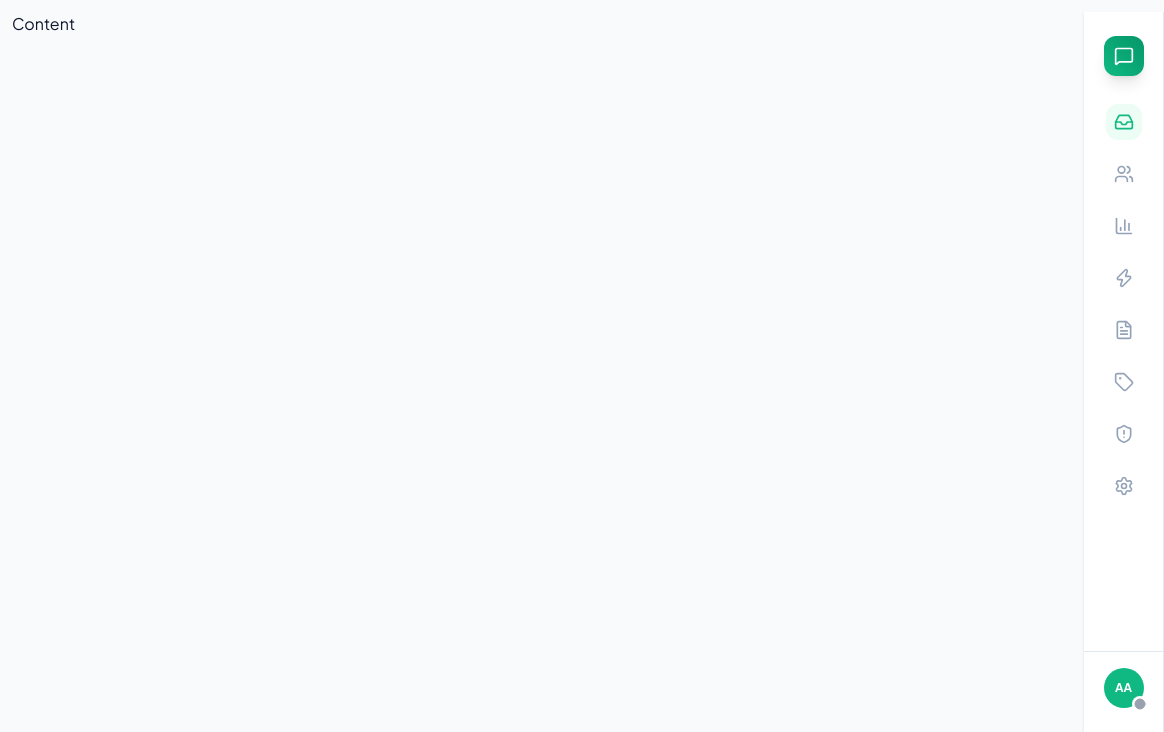
it: AppShell › closes the status menu when clicking outside the nav
The width and height of the screenshot is (1164, 732).
Expected: the text "Content" is shown, [12,13,75,34]
Step 1. Click the button titled "Ada Admin (ADMIN) - OFFLINE" → (1124, 688), box [1104,668,1144,708]
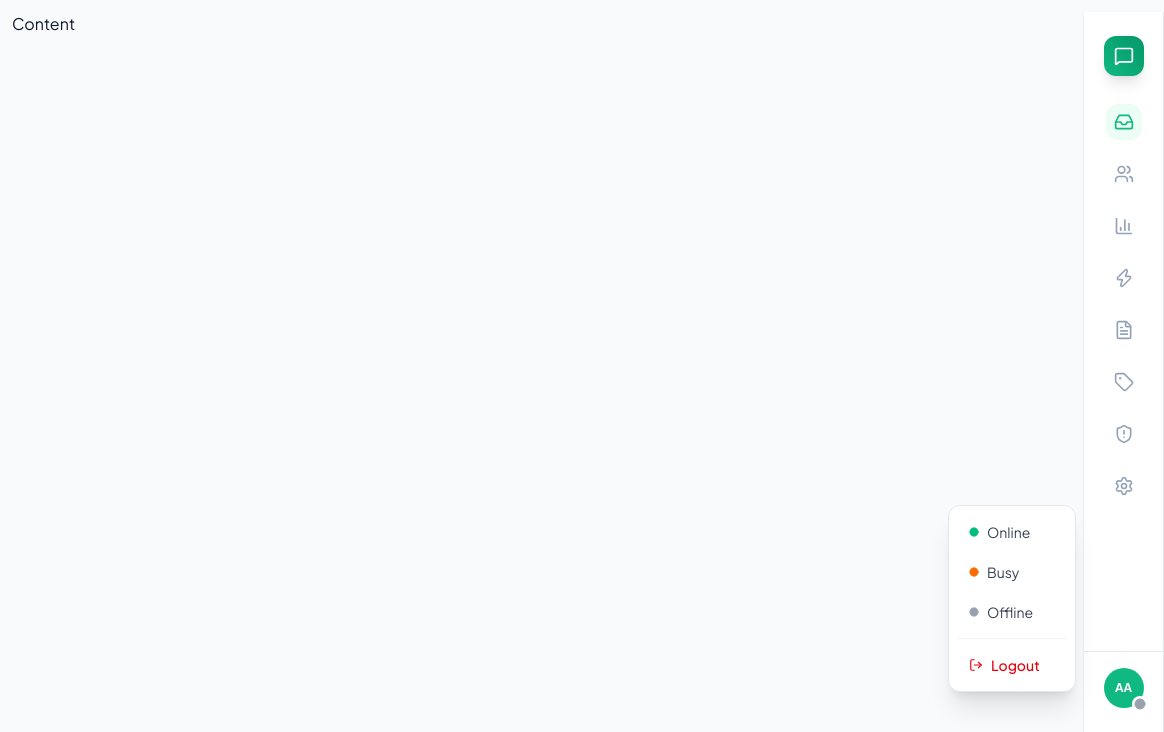
Now the button "Online" is shown, box [957,514,1067,550]
Step 2. Press the mouse on the text "Content" → (44, 24), box [12,13,75,34]
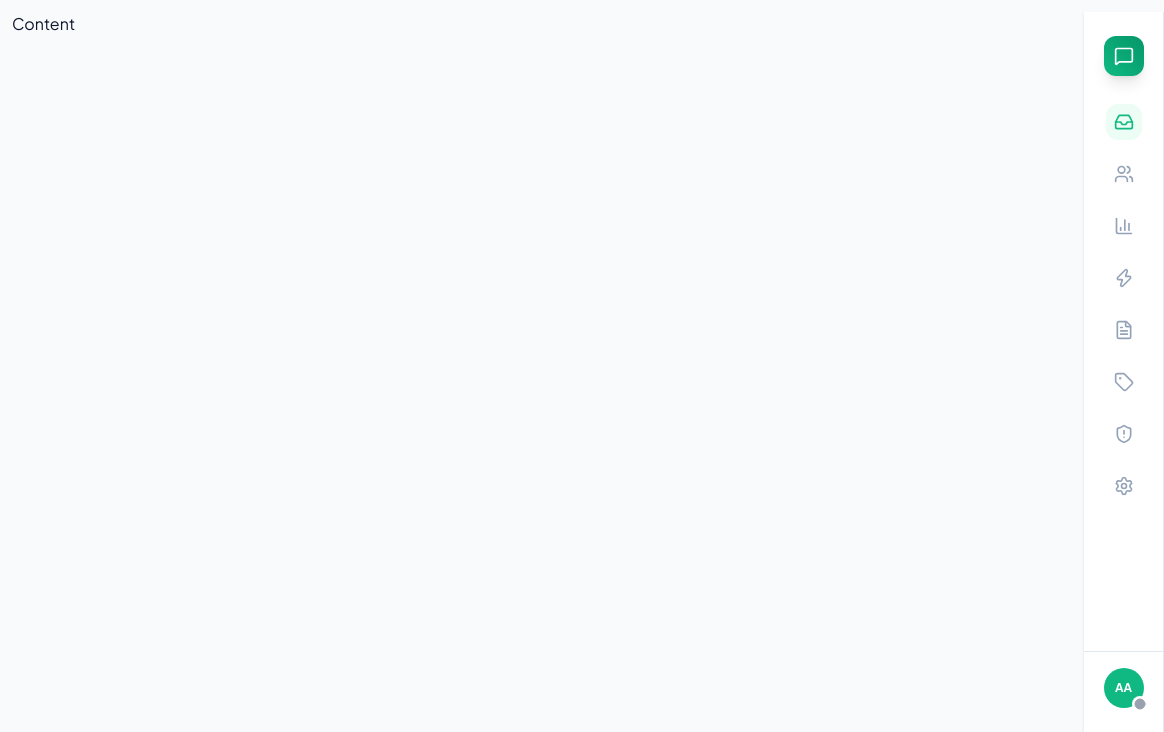
Now no buttons "Online" are shown
